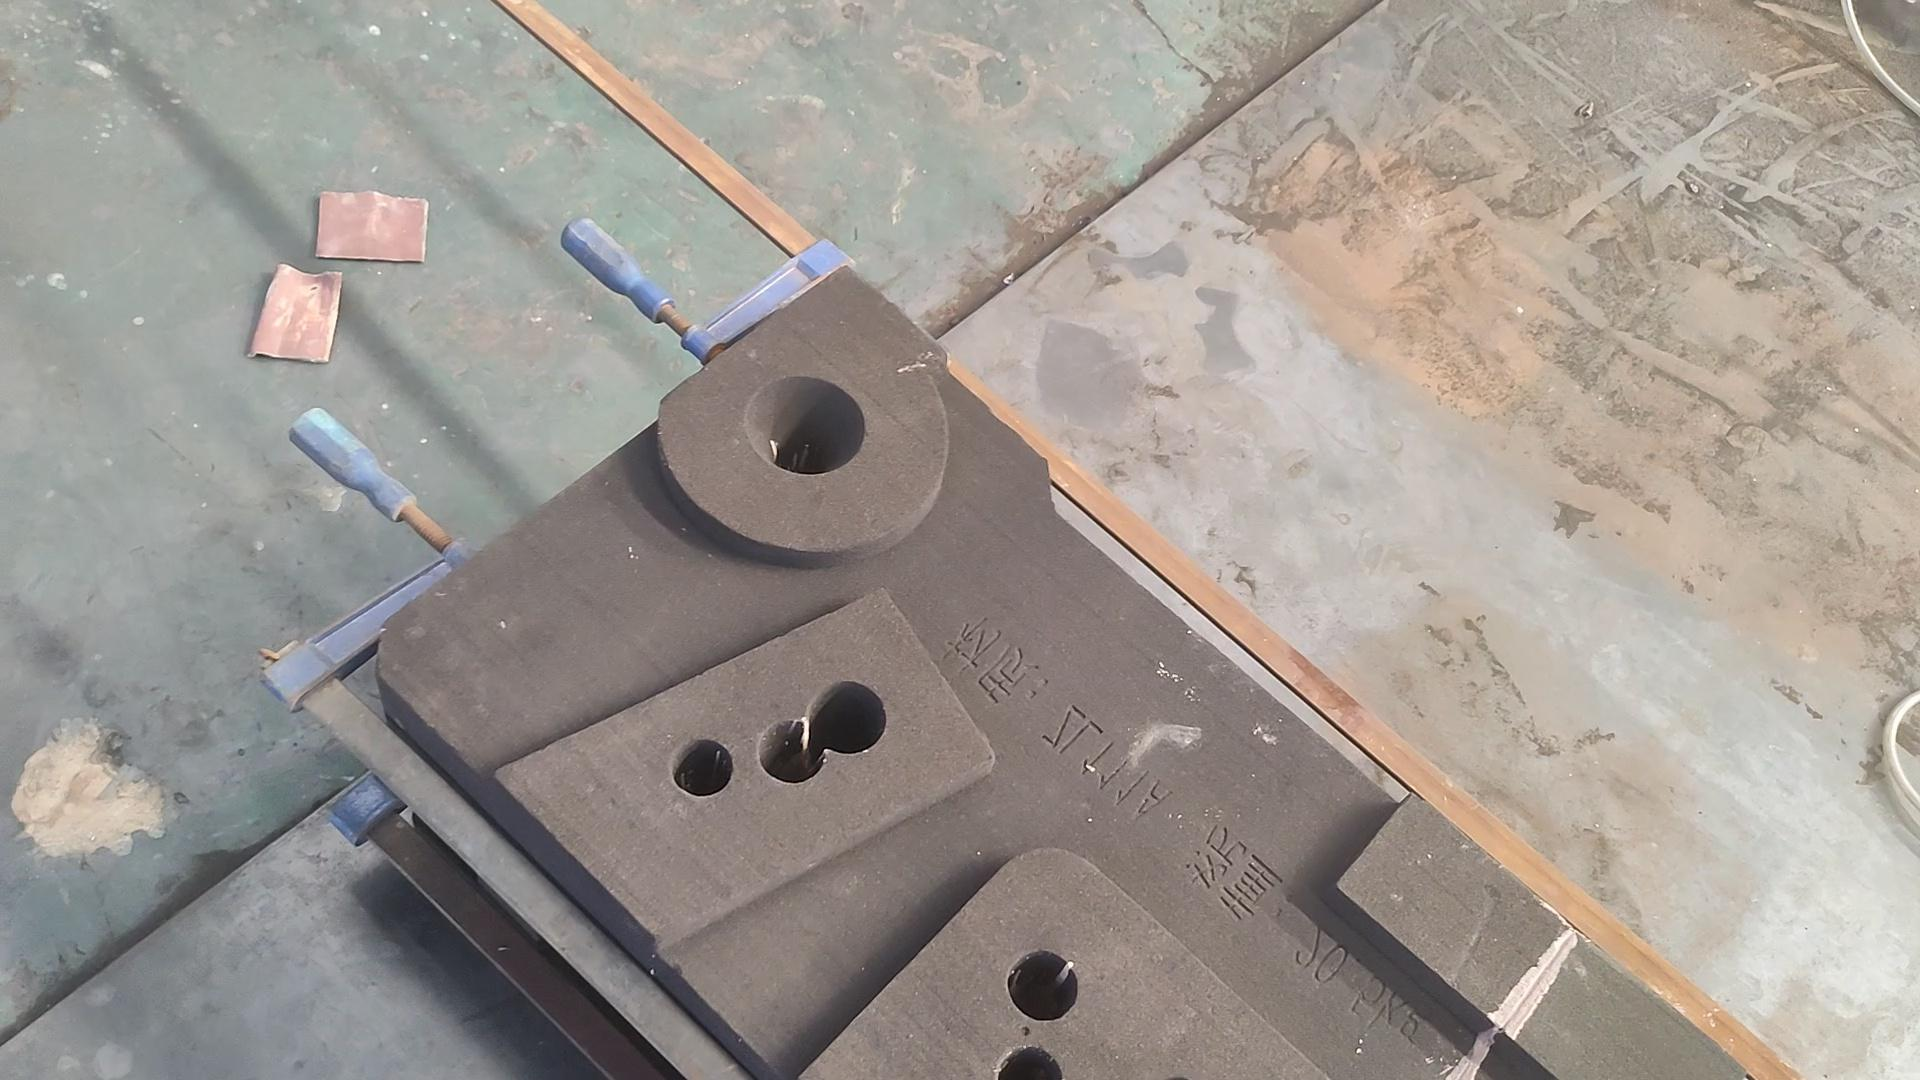pouring hole: (745, 376, 866, 476)
